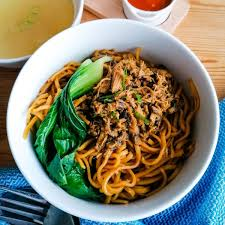Mie ayam: (38, 48, 195, 199)
